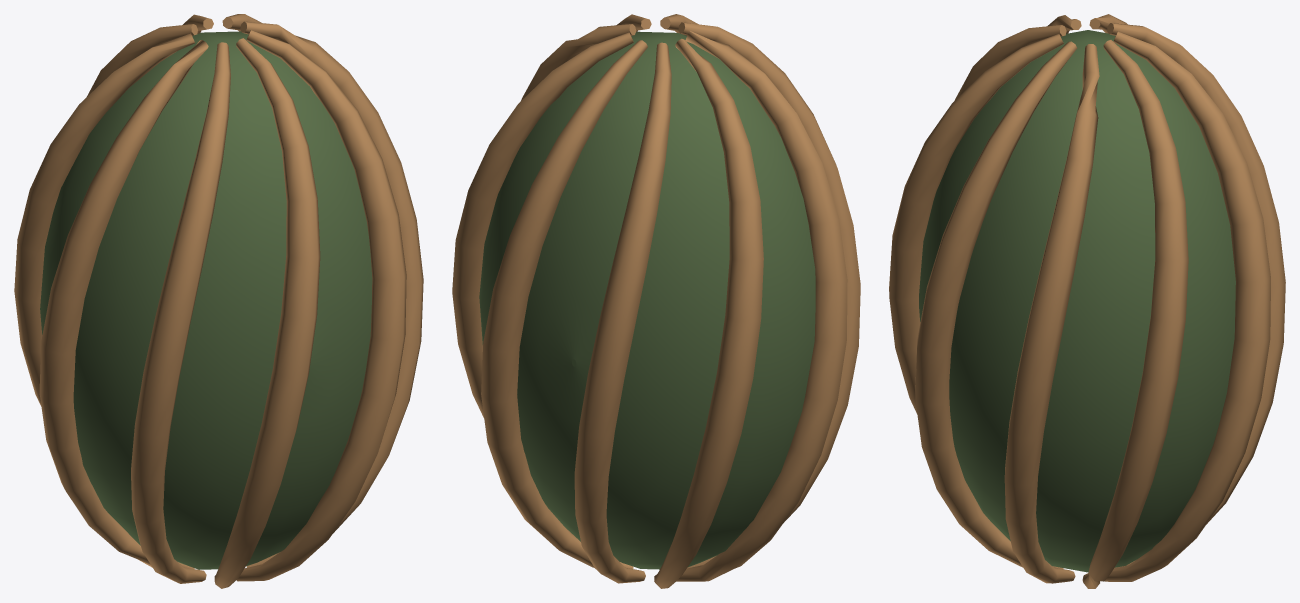
The model's file is egg_0.glb.
The picture shows the model from 3 angles, left to right: view 1: azimuth 30°, elevation 25°; view 2: azimuth 150°, elevation 25°; view 3: azimuth 270°, elevation 25°; orthographic projection.
Visible parts, largest first — view 1: egg_0; view 2: egg_0; view 3: egg_0.
Boxes of the visible parts, x1,y1,x2,y2 form: egg_0: (14,14,423,588); egg_0: (452,14,860,588); egg_0: (889,14,1285,588).
Size of the model in its own units: 1.74 by 2.54 by 1.69.
